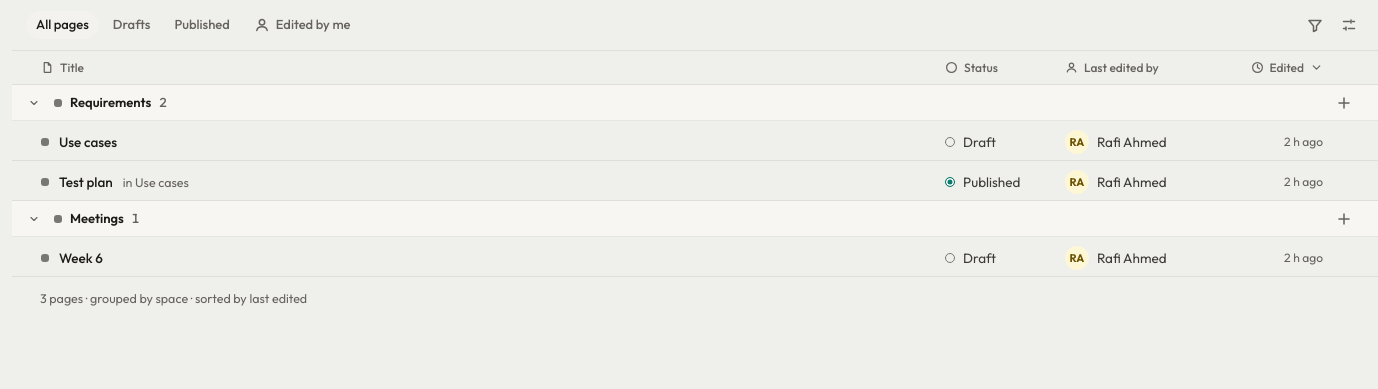
team pages list › viewsAndFiltersLiveInTheUrlAndReachTheApi
The width and height of the screenshot is (1378, 389).
Check: the link "Use cases" is shown, box [41,133,117,151]
Click the button "Drafts" at [132, 25], box [103,11,160,39]
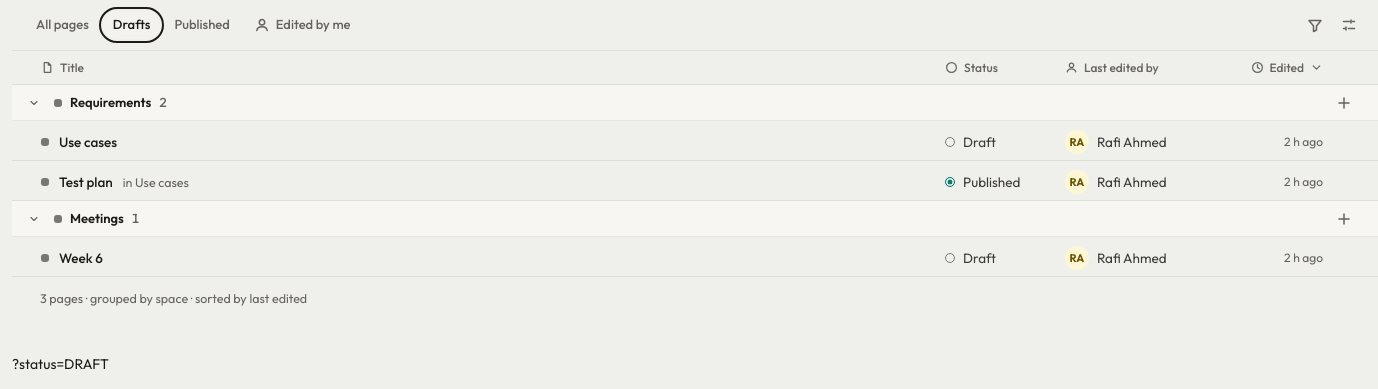
Check: the text with test id "where" reads "?status=DRAFT", box [12,355,109,373]
Click the button "Edited by me" at [302, 25], box [244,11,361,39]
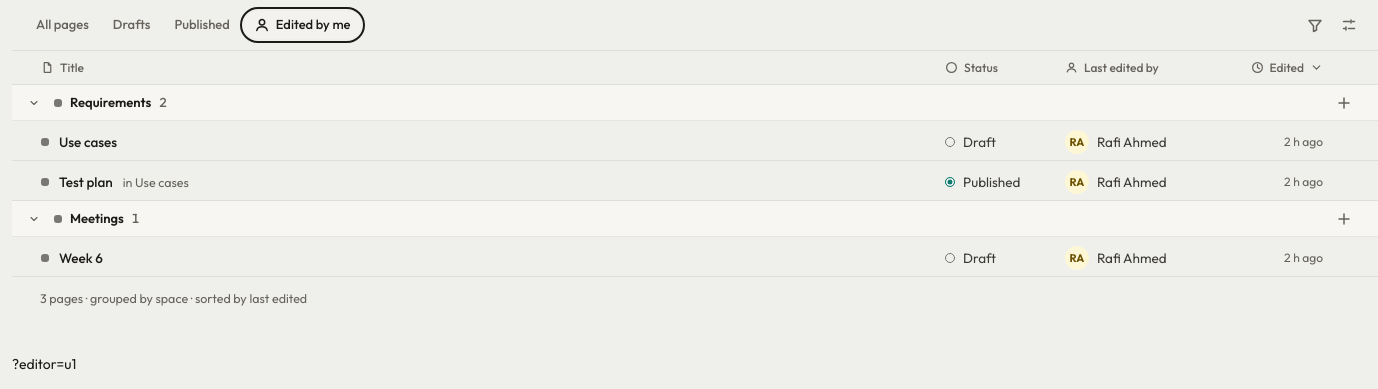
Check: the text with test id "where" reads "?editor=u1", box [12,355,76,373]
